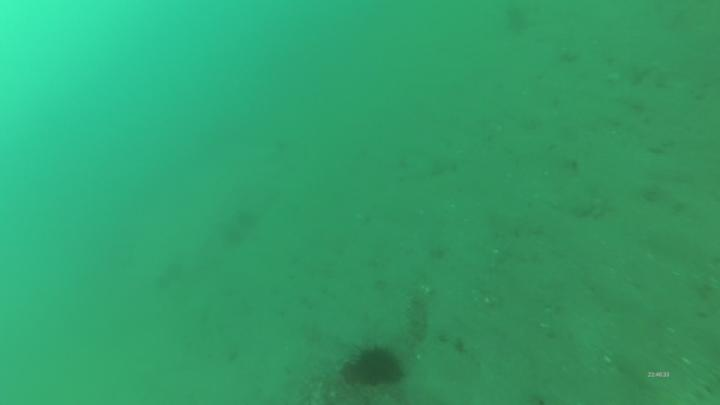echinus: (339, 341, 409, 390)
holothurian: (402, 291, 433, 348)
